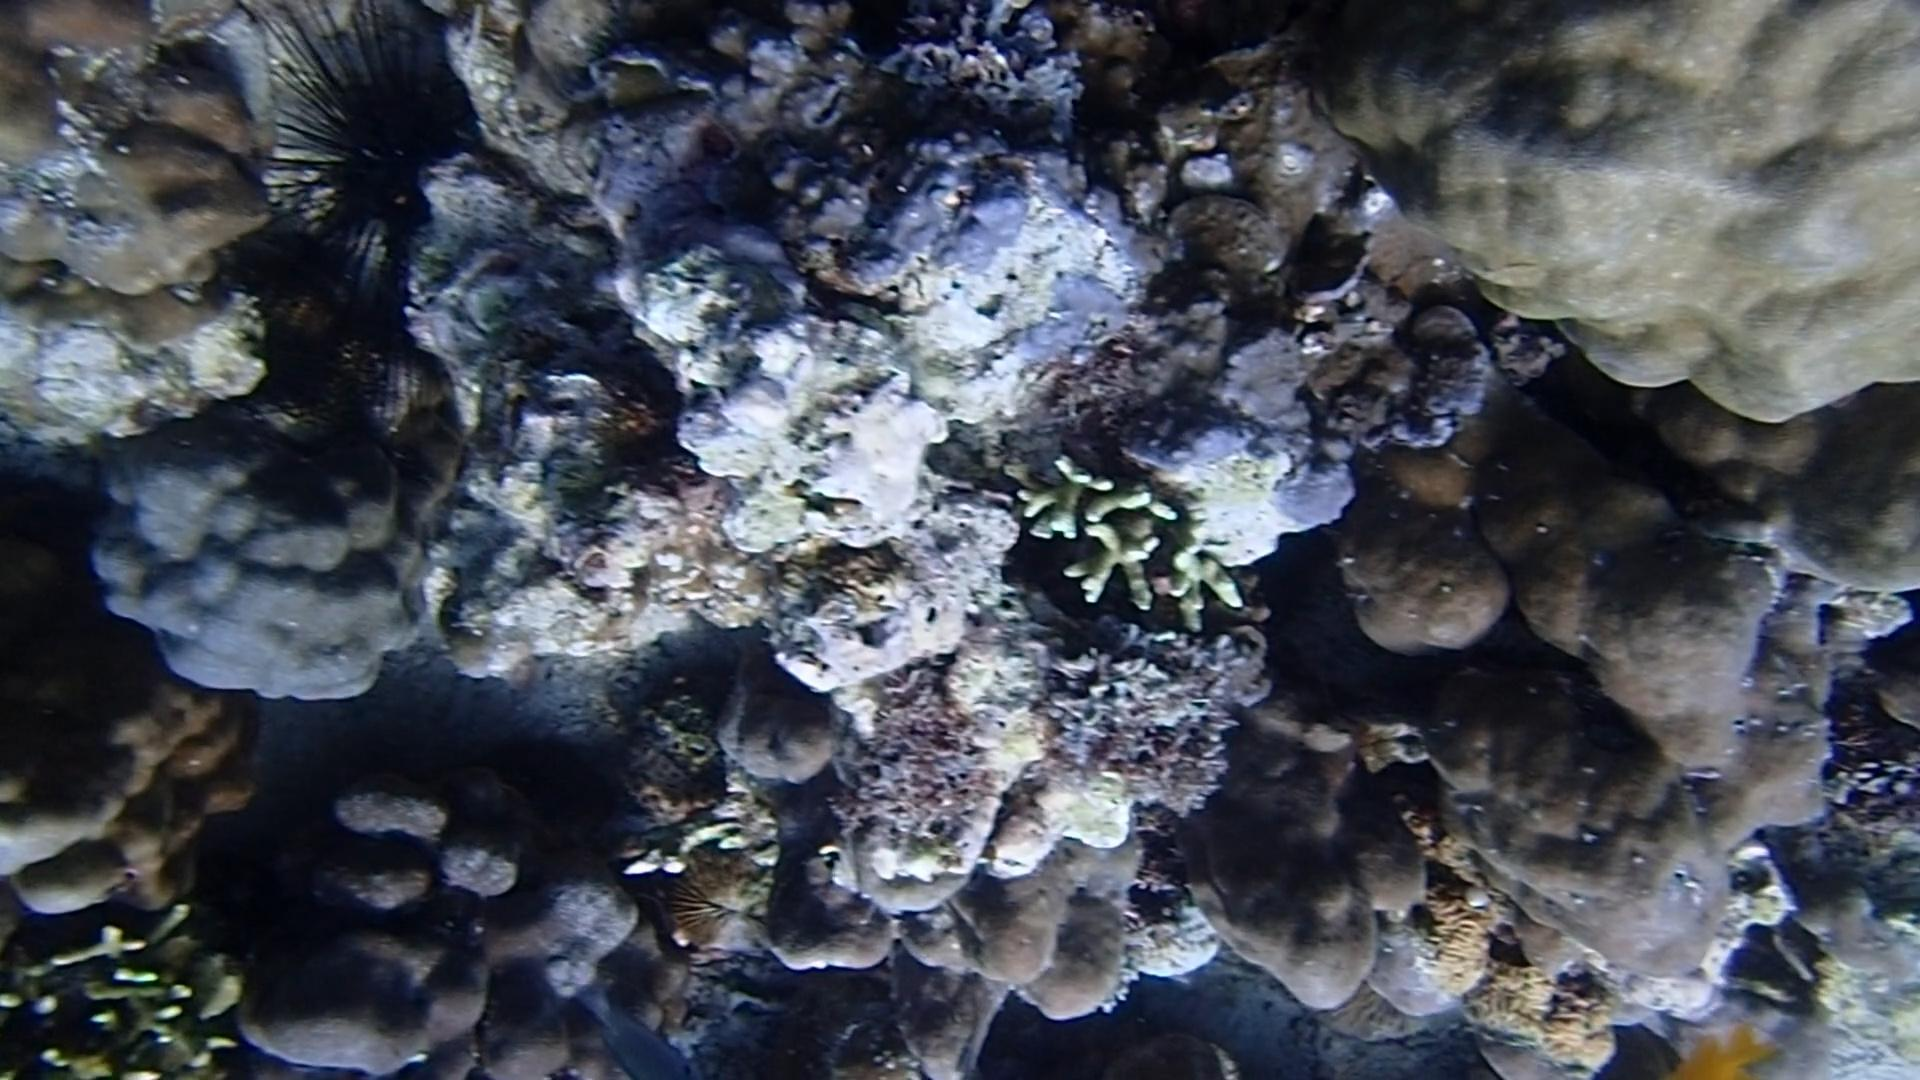Blue Fish Two: (570, 985, 704, 1080)
Yellow Fish: (1642, 1013, 1770, 1080)
